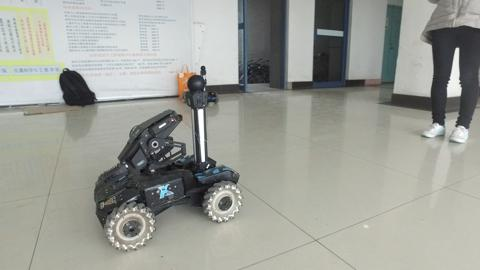bag: (48, 63, 111, 121)
chariot: (89, 72, 244, 253)
